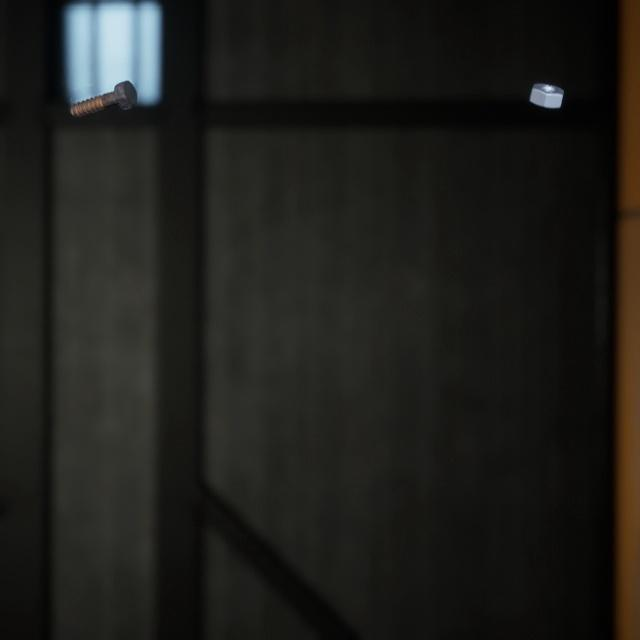bolt: (65, 63, 141, 109)
nut: (525, 67, 568, 101)
